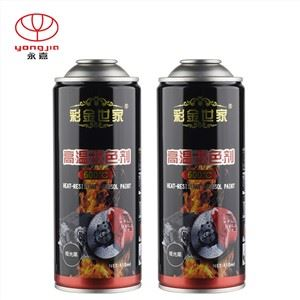Aerosol_cans: (155, 57, 248, 297), (52, 56, 143, 296)
